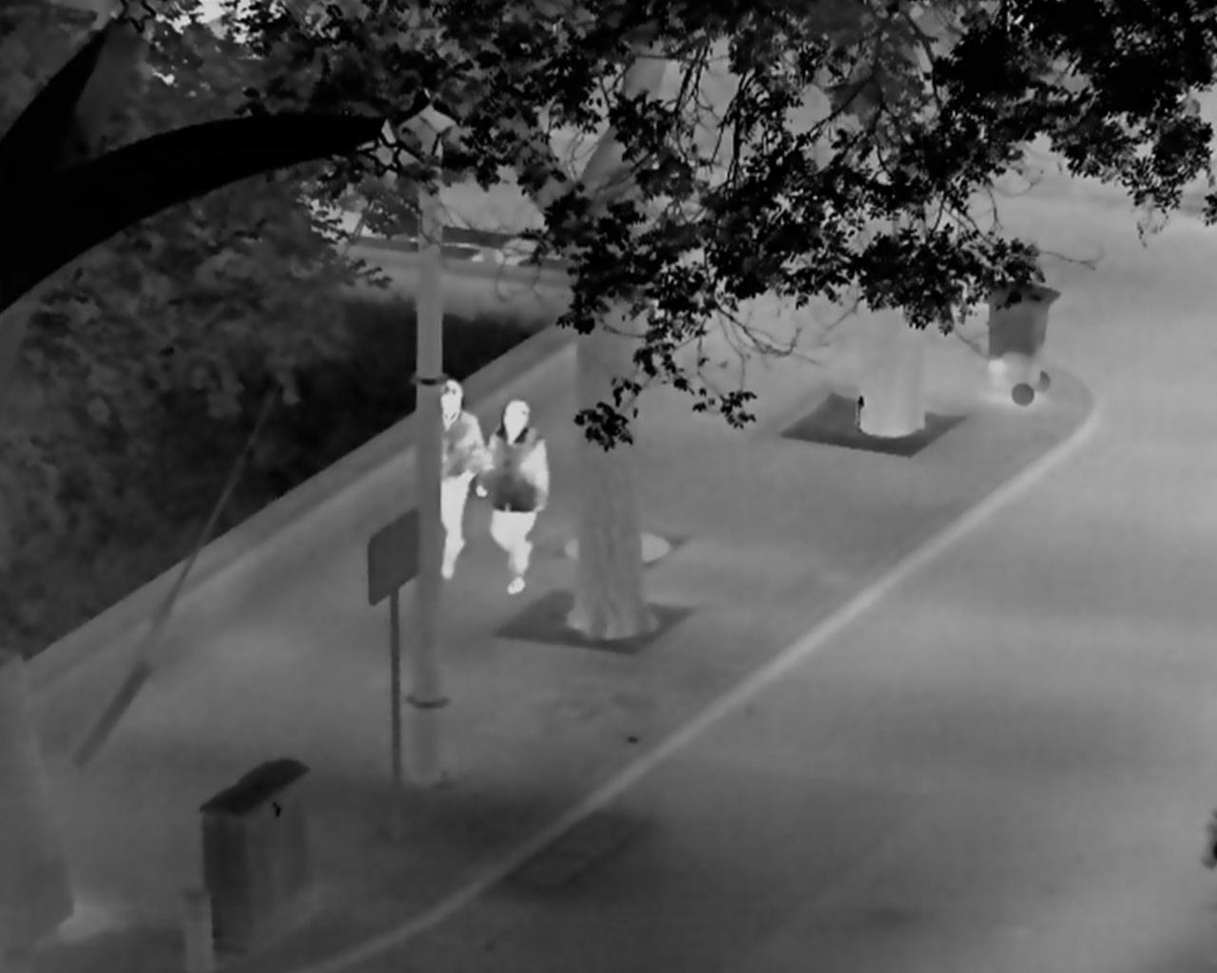person: (474, 397, 550, 598), (439, 376, 485, 580)
